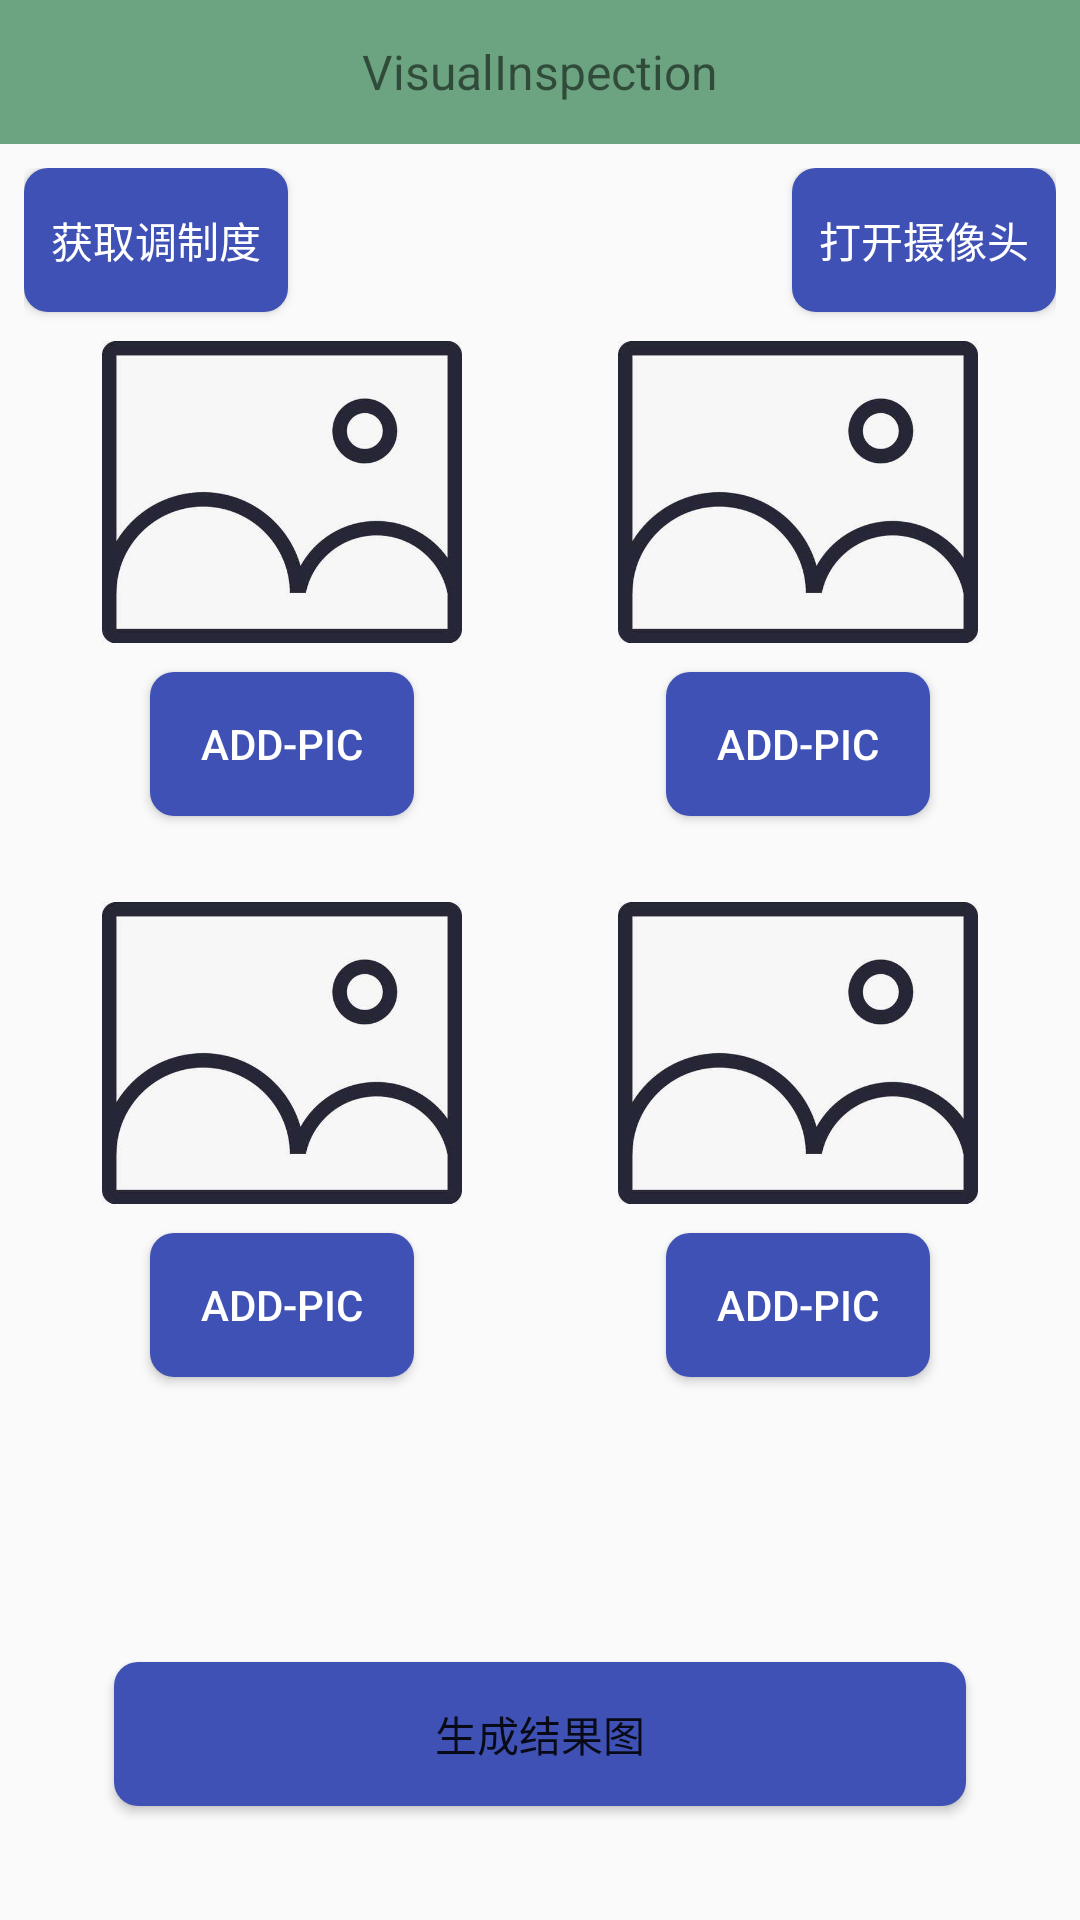

Named icons in this screenshot (1080px×1920px) and their bounding boxes, (x1, y1, x2, y2):
moren: (102, 341, 462, 643), (618, 341, 978, 643), (102, 902, 462, 1204), (618, 902, 978, 1204)
